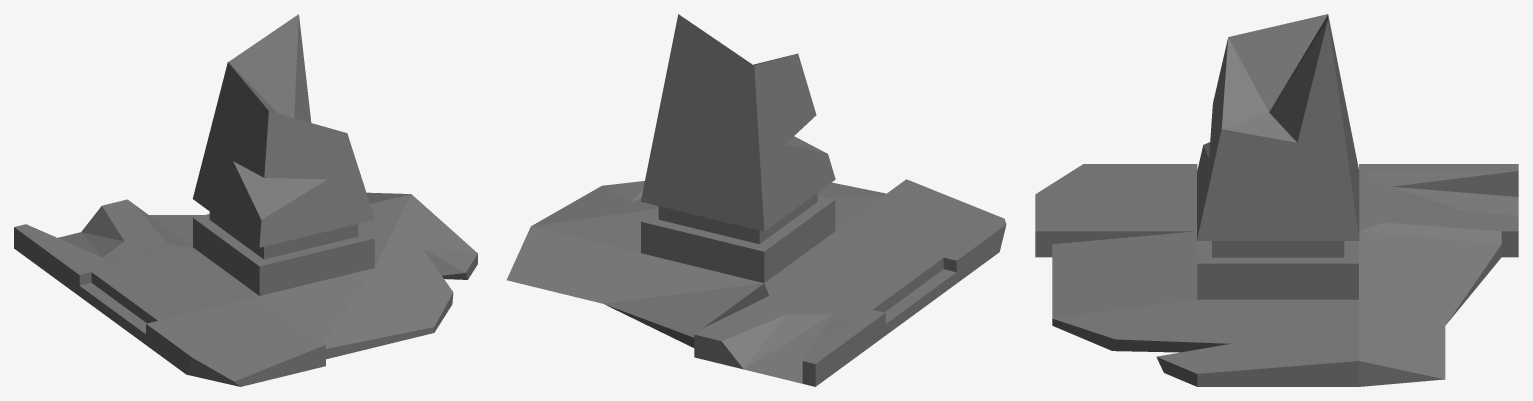
Rendered from ShrineRuin02.fbx.
3 renders of one model, left to right at view 1: azimuth 30°, elevation 25°; view 2: azimuth 150°, elevation 25°; view 3: azimuth 270°, elevation 25°, orthographic. The views are drawn at different scales.
Parts seen in each view (by area): view 1: ShrineRuin02; view 2: ShrineRuin02; view 3: ShrineRuin02.
Boxes of the visible parts, x1,y1,x2,y2 form: ShrineRuin02: (14,14,477,386); ShrineRuin02: (506,14,1006,386); ShrineRuin02: (1035,14,1518,386).
Bounding box in the file's own units: 0.7658 × 0.5321 × 0.7935.
